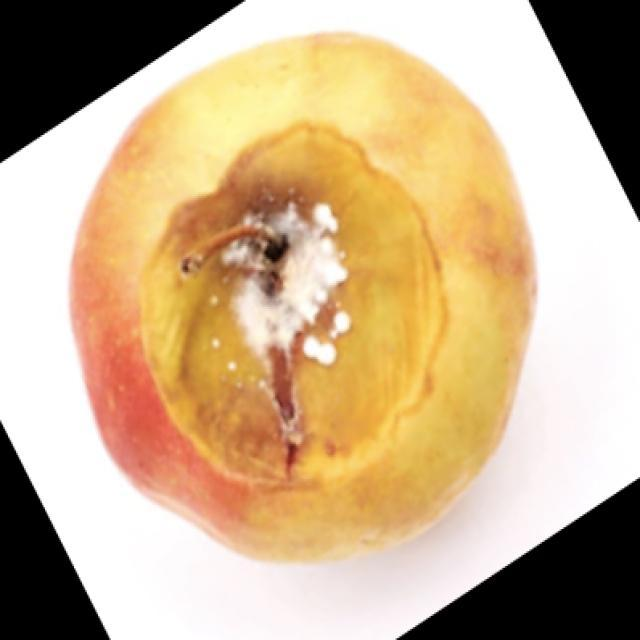Rotten: (53, 44, 537, 554)
